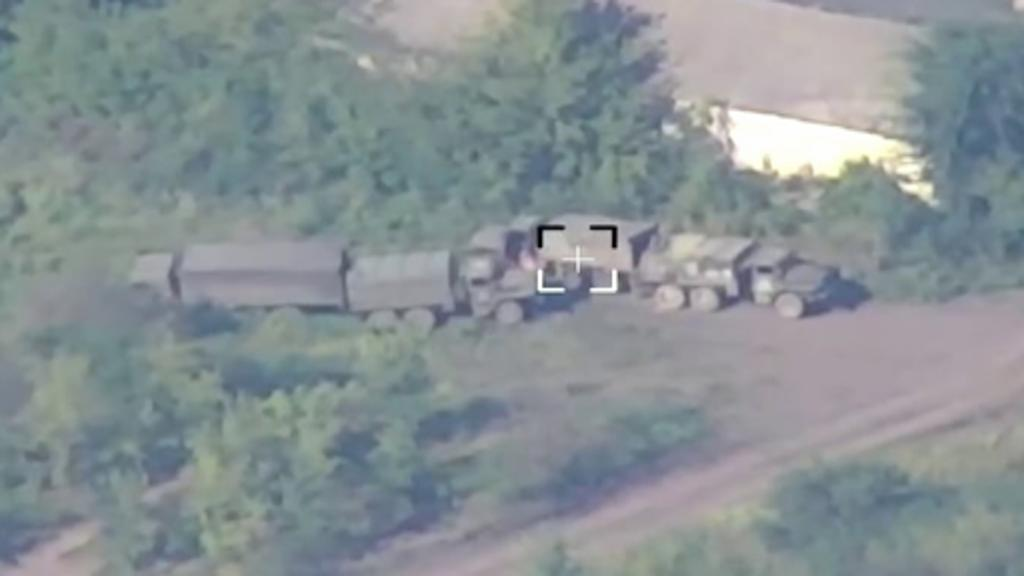TRUCK: (638, 220, 840, 316), (124, 235, 342, 321), (344, 240, 534, 326), (470, 212, 658, 290)
